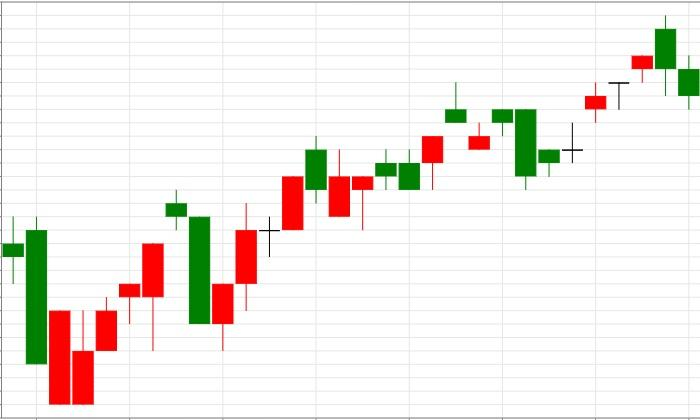evening_star_fall: (72, 190, 209, 405)
